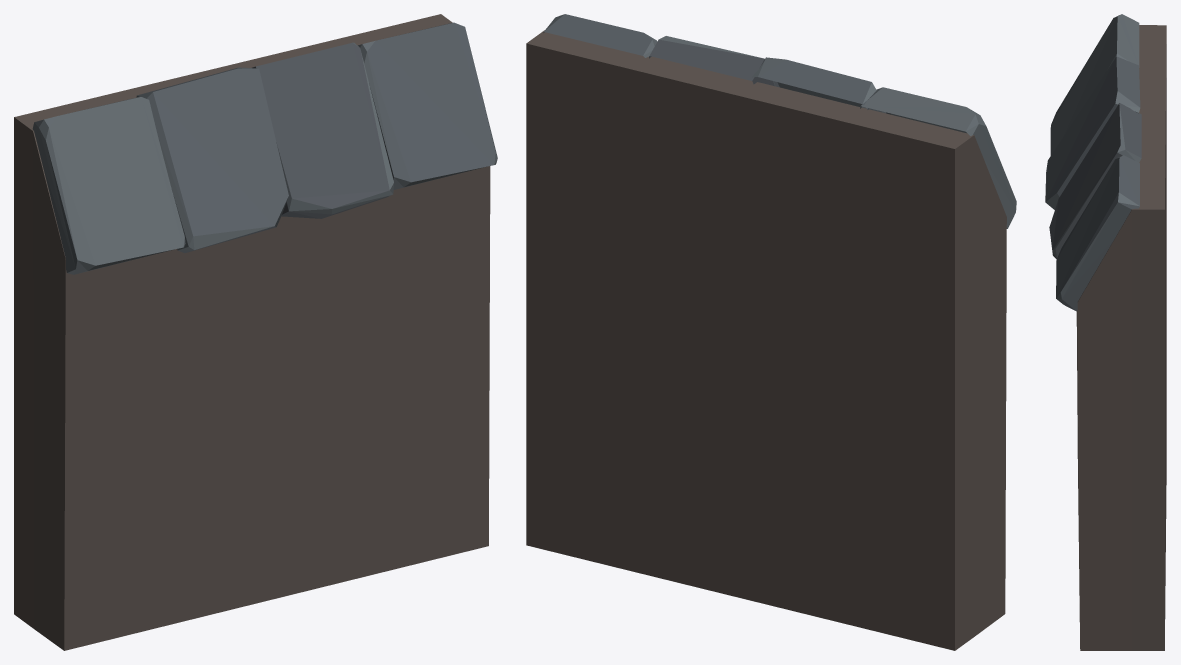
Rendered from MCastle_SquareWall_Base_02.FBX.
The picture shows the model from 3 angles, left to right: view 1: azimuth 30°, elevation 25°; view 2: azimuth 150°, elevation 25°; view 3: azimuth 270°, elevation 25°; orthographic projection. The views are drawn at different scales.
Parts seen in each view (by area): view 1: MCastle_SquareWalls_Base_02_LOD0; view 2: MCastle_SquareWalls_Base_02_LOD0; view 3: MCastle_SquareWalls_Base_02_LOD0.
Part boxes in pixels (x1,y1,x2,y2): MCastle_SquareWalls_Base_02_LOD0: (14, 14, 497, 650); MCastle_SquareWalls_Base_02_LOD0: (526, 14, 1016, 650); MCastle_SquareWalls_Base_02_LOD0: (1045, 14, 1166, 650).
Size of what is drawn, in the model's own units: 4 by 4.65 by 1.11.
